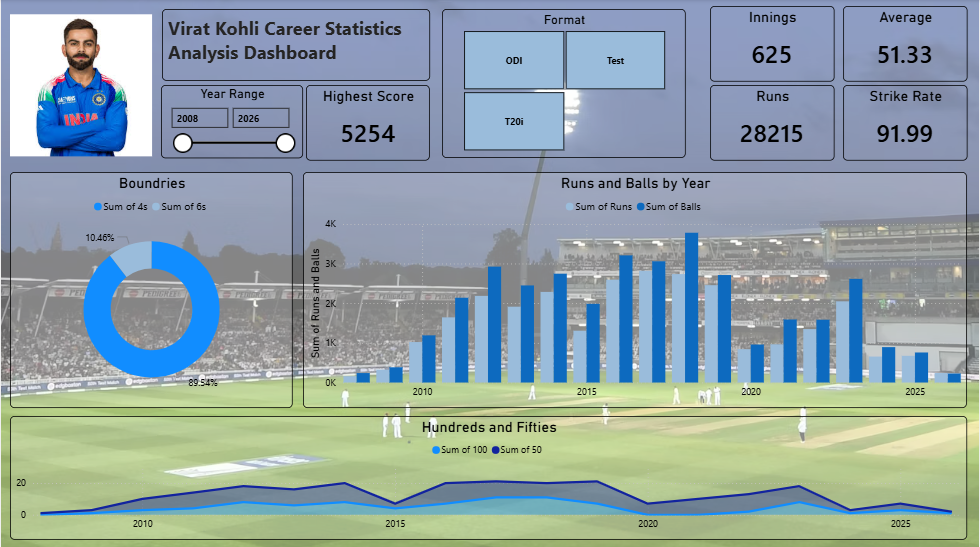

What the dashboard file says about the page in this screenshot:
{"tool":"powerbi","page":{"name":"Page 1","canvas":[1280,720],"ordinal":0},"visuals":[{"type":"cardVisual","title":"Innings","fields":{"Data":["Sum(Sports_analytics.Innings)"]},"box":[928.8,8.8,162.5,98.8],"z":0},{"type":"cardVisual","title":"Runs","fields":{"Data":["Sum(Sports_analytics.Runs)"]},"box":[928.8,112.5,162.5,98.8],"z":1000},{"type":"cardVisual","title":"Average","fields":{"Data":["Avg(Sports_analytics.Avg)"]},"box":[1102.5,8.8,162.5,98.8],"z":2000},{"type":"cardVisual","title":"Strike Rate","fields":{"Data":["Avg(Sports_analytics.SR)"]},"box":[1102.5,112.5,162.5,98.8],"z":3000},{"type":"slicer","title":"Format","fields":{"Values":["Sports_analytics.Format"]},"box":[577.3,13.1,319.4,195.1],"z":4000},{"type":"slicer","title":"Year Range","fields":{"Values":["Sports_analytics.Year"]},"box":[209.5,112.6,185.9,95.6],"z":4001},{"type":"clusteredColumnChart","title":"Runs and Balls by Year","fields":{"Category":["Sports_analytics.Year"],"Y":["Sum(Sports_analytics.Runs)","Sum(Sports_analytics.Balls)"]},"box":[395.3,226.5,869.2,308.9],"z":4002},{"type":"donutChart","title":"Boundries","fields":{"Y":["Sum(Sports_analytics.4s)","Sum(Sports_analytics.6s)"]},"box":[11.8,226.5,370.5,308.9],"z":4003},{"type":"stackedAreaChart","title":"Hundreds and Fifties","fields":{"Category":["Sports_analytics.Year"],"Y":["Sum(Sports_analytics.100)","Sum(Sports_analytics.50)"]},"box":[11.8,545.9,1252.8,162.3],"z":4004},{"type":"image","box":[11.8,0,185.9,226.5],"z":4005},{"type":"textbox","box":[210.8,13.1,350.8,94.3],"z":4006},{"type":"cardVisual","title":"Highest Score","fields":{"Data":["Sum(Sports_analytics.HS)"]},"box":[399.1,112.9,162.4,99.1],"z":4007}]}

Visuals, with their boxes in screenshot pixels (x1, y1, x2, y2), scaled from the page's 1280x720 canvas onto the 980x547 screenshot:
"Innings" cardVisual: {"x1": 711, "y1": 7, "x2": 836, "y2": 82}
"Runs" cardVisual: {"x1": 711, "y1": 85, "x2": 836, "y2": 161}
"Average" cardVisual: {"x1": 844, "y1": 7, "x2": 969, "y2": 82}
"Strike Rate" cardVisual: {"x1": 844, "y1": 85, "x2": 969, "y2": 161}
"Format" slicer: {"x1": 442, "y1": 10, "x2": 687, "y2": 158}
"Year Range" slicer: {"x1": 160, "y1": 86, "x2": 303, "y2": 158}
"Runs and Balls by Year" clusteredColumnChart: {"x1": 303, "y1": 172, "x2": 968, "y2": 407}
"Boundries" donutChart: {"x1": 9, "y1": 172, "x2": 293, "y2": 407}
"Hundreds and Fifties" stackedAreaChart: {"x1": 9, "y1": 415, "x2": 968, "y2": 538}
image: {"x1": 9, "y1": 0, "x2": 151, "y2": 172}
textbox: {"x1": 161, "y1": 10, "x2": 430, "y2": 82}
"Highest Score" cardVisual: {"x1": 306, "y1": 86, "x2": 430, "y2": 161}
